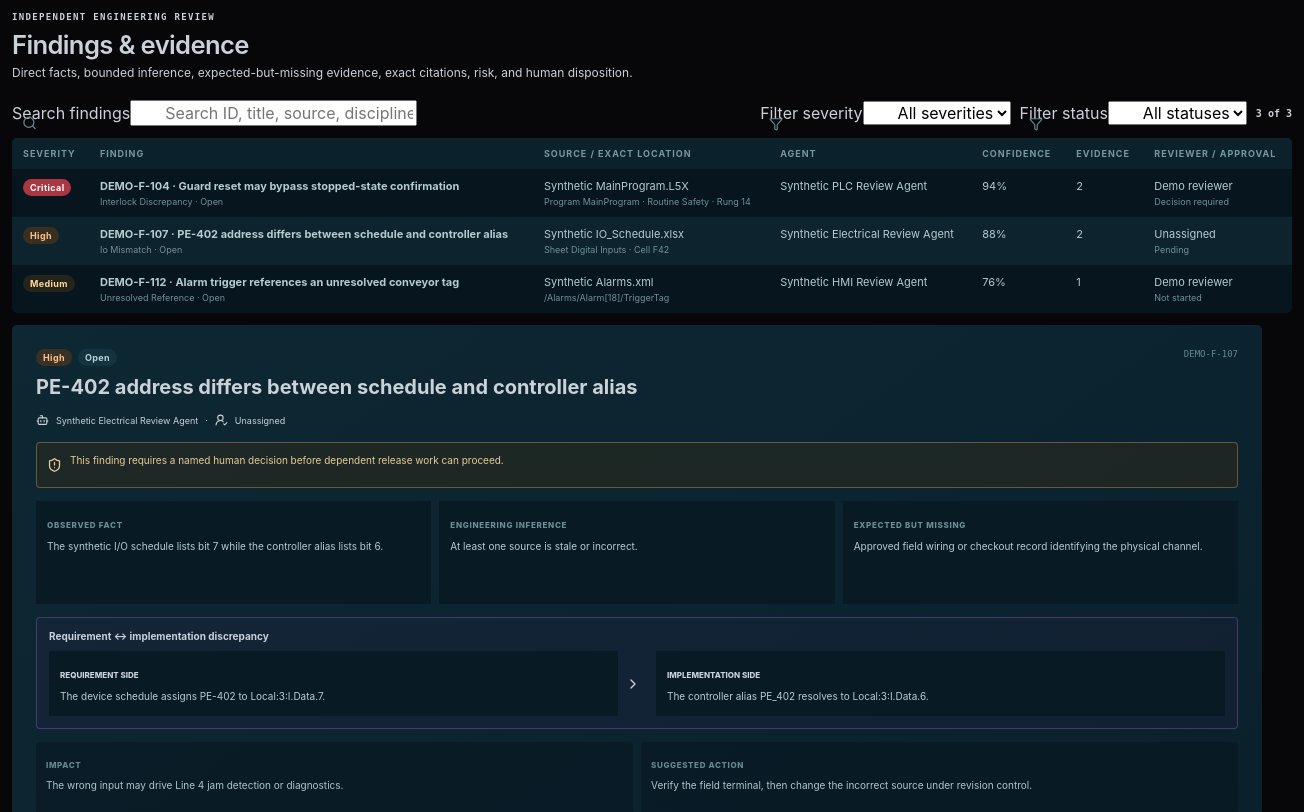
Test case: FindingsWorkspace › does not reapply the original route selection after a live refresh
Later steps or results of the test are not shown.
Click the button "DEMO-F-104" at x=311, y=193, box [100, 179, 522, 207]
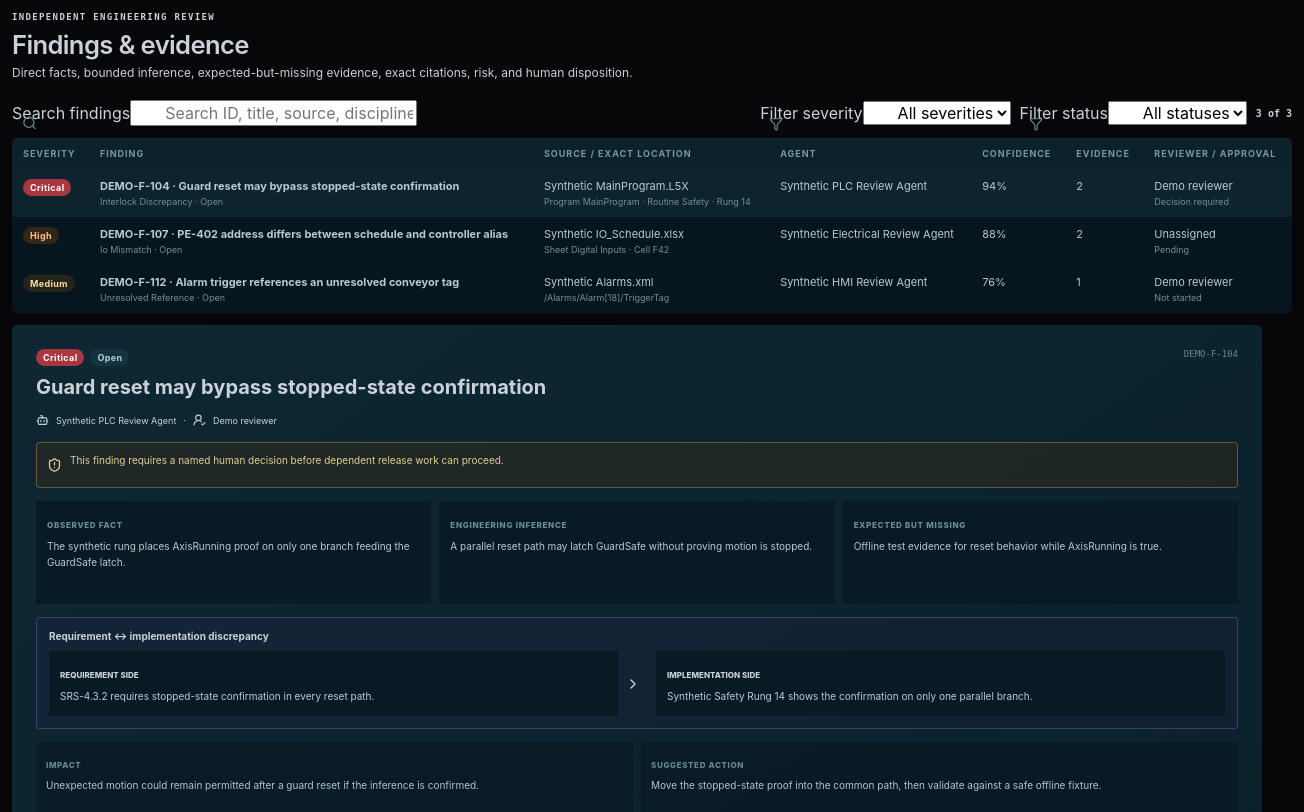
Now the heading "Guard reset may bypass stopped-state confirmation" is shown, box [36, 375, 546, 399]
